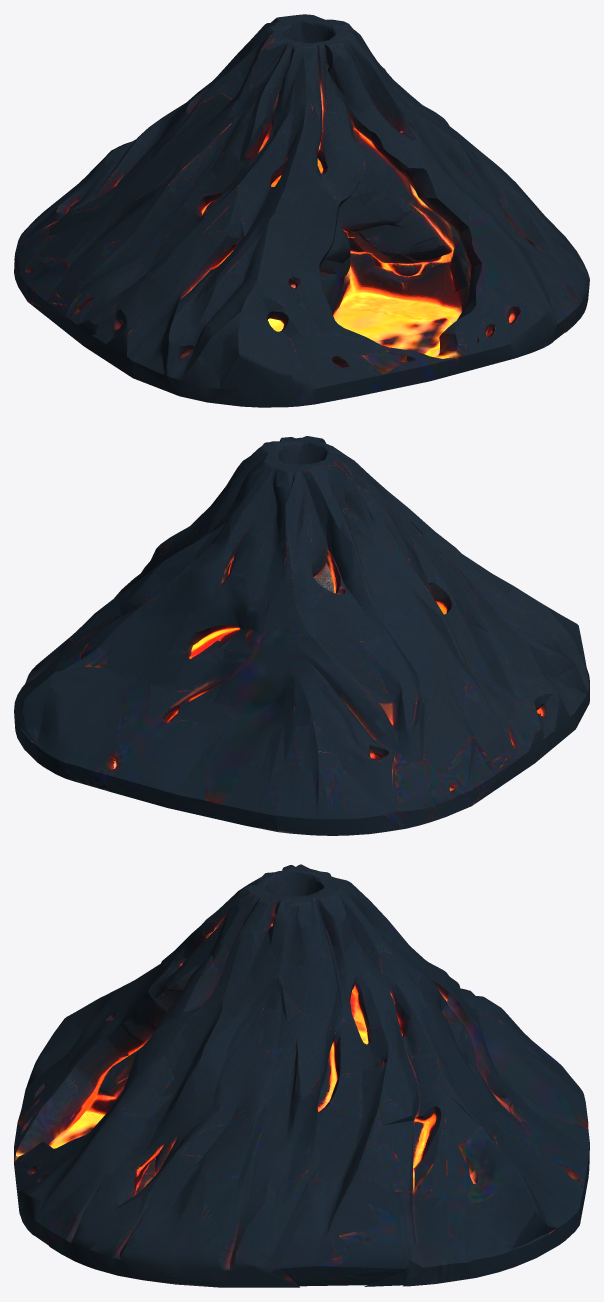
The model's file is bg-volcano.glb.
3 renders of one model, top to bottom at view 1: azimuth 30°, elevation 25°; view 2: azimuth 150°, elevation 25°; view 3: azimuth 270°, elevation 25°, orthographic. The views are drawn at different scales.
Size of the model in its own units: 1.9 by 1.03 by 1.9.
Materials: 1 (1 with a texture image).
